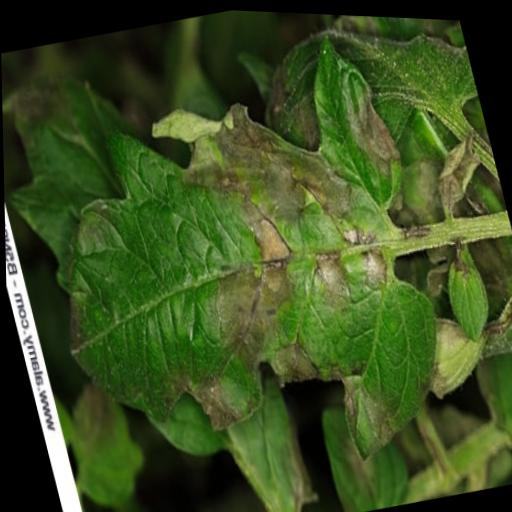Late Blight: (1, 9, 474, 512)
